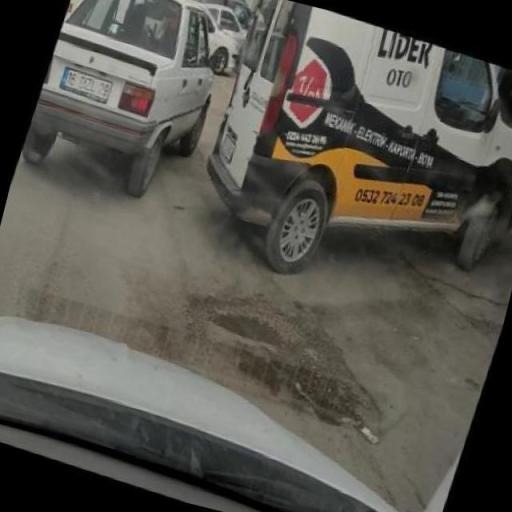pothole: (107, 146, 302, 455)
